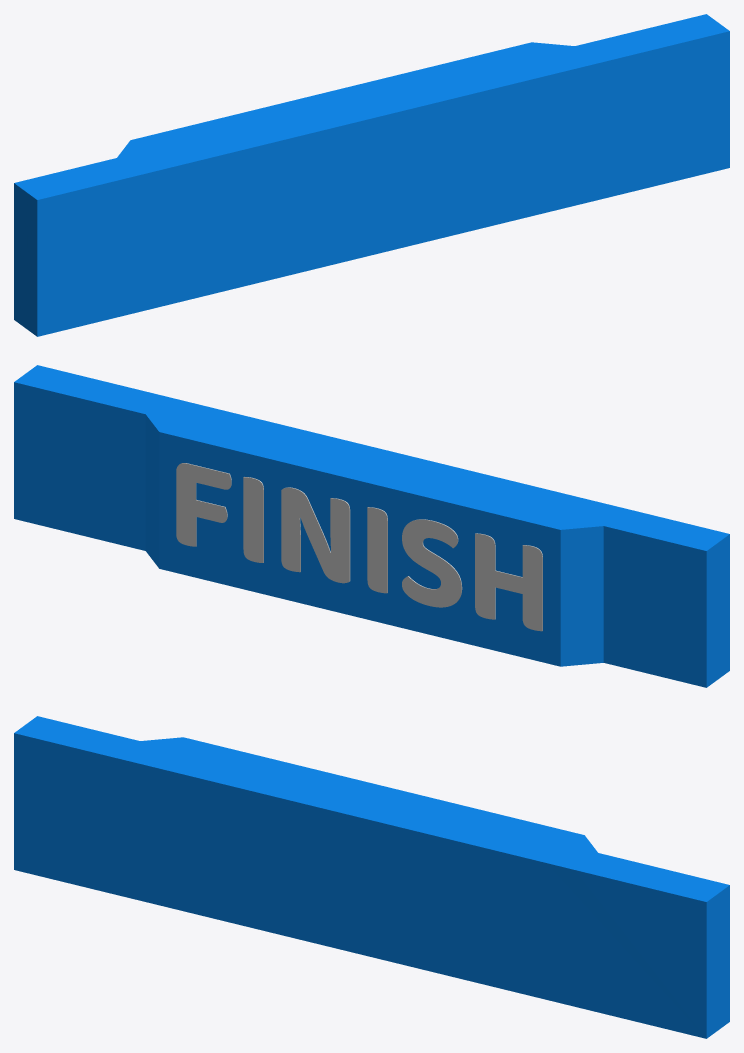
The model's file is Door Top.FBX.
3 views of the same model, one above another, from view 1: azimuth 30°, elevation 25°; view 2: azimuth 150°, elevation 25°; view 3: azimuth 330°, elevation 25° (orthographic).
Parts seen in each view (by area): view 1: Plane003; view 2: Plane003; view 3: Plane003.
Boxes of the visible parts, box(x1,y1,x2,y2) form: Plane003: box(14, 14, 729, 336); Plane003: box(14, 365, 729, 687); Plane003: box(14, 716, 729, 1038).
Size of the model in its own units: 146 by 27.48 by 14.06.
Materials: 1 (1 with a texture image).
